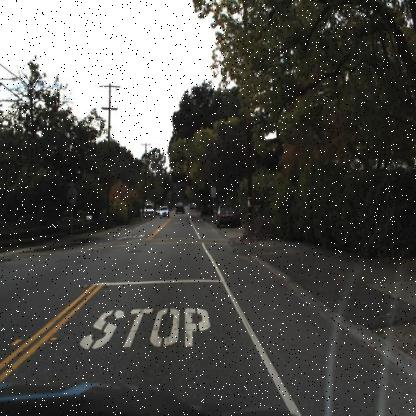car: (216, 202, 235, 228), (141, 199, 156, 220), (141, 201, 156, 217), (159, 203, 170, 219), (175, 199, 185, 216)
